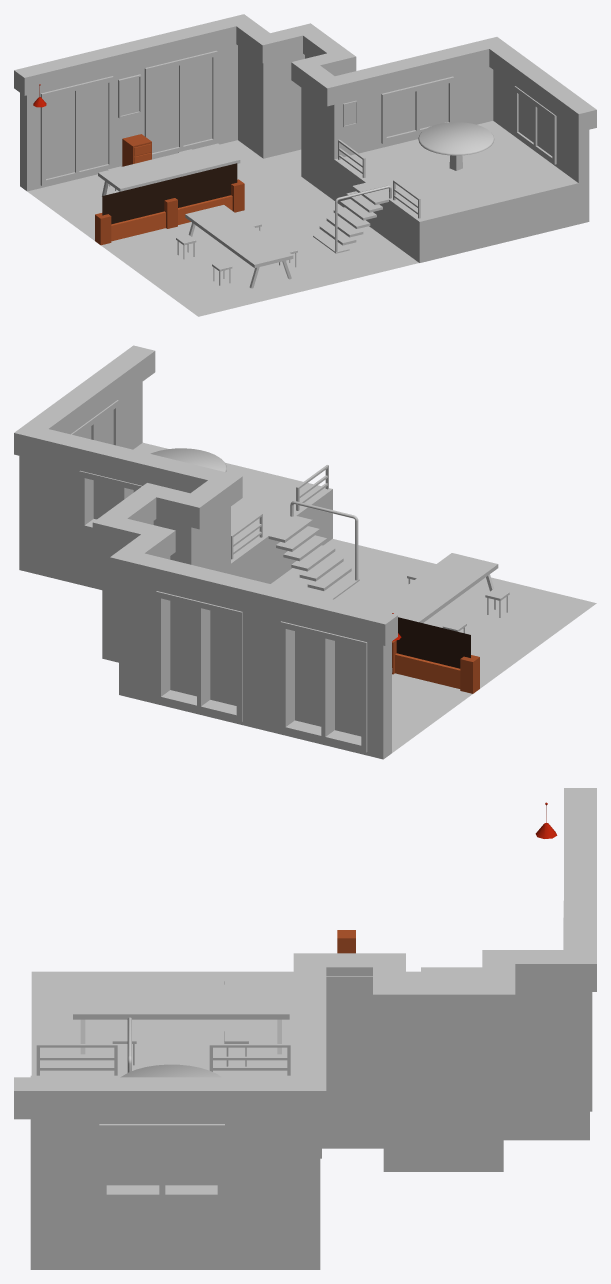
File: StudyRoom.fbx
3 views of the same model, one above another, from view 1: azimuth 30°, elevation 25°; view 2: azimuth 150°, elevation 25°; view 3: azimuth 270°, elevation 25° (orthographic). The views are drawn at different scales.
Parts seen in each view (by area): view 1: study_wall_L, s_floor, study room _wall_L, s_wall_L, Plane.055, Plane.003, window frame, study_table2_L, study_table2_L.001, window frame2, Cube.031, Plane.002 (+6 smaller); view 2: study_wall_L, study room _wall_L, s_floor, window frame, Plane.055, Plane.003, s_wall_L, study_table2_L, Cube.031, window frame2, Cube.033, study_table_L (+3 smaller); view 3: study_wall_L, study room _wall_L, s_floor, study_table2_L, Plane.001, window frame2, Cube.033, study_table_L, study_table2_L.001, library_chair2_L.001.
Boxes of the visible parts, left/top/right/bottom form: study_wall_L: left=20, top=44, right=589, bottom=262; s_floor: left=27, top=140, right=418, bottom=316; study room _wall_L: left=14, top=14, right=596, bottom=131; s_wall_L: left=95, top=163, right=244, bottom=245; Plane.055: left=46, top=83, right=108, bottom=178; Plane.003: left=150, top=57, right=212, bottom=153; window frame: left=40, top=50, right=217, bottom=185; study_table2_L: left=185, top=205, right=293, bottom=288; study_table2_L.001: left=98, top=143, right=240, bottom=196; window frame2: left=381, top=76, right=556, bottom=164; Cube.031: left=313, top=182, right=388, bottom=253; Plane.002: left=386, top=83, right=448, bottom=136; study_wall_L: left=19, top=382, right=391, bottom=759; study room _wall_L: left=14, top=345, right=397, bottom=645; s_floor: left=271, top=538, right=596, bottom=752; window frame: left=156, top=591, right=367, bottom=752; Plane.055: left=295, top=631, right=361, bottom=736; Plane.003: left=170, top=600, right=236, bottom=705; s_wall_L: left=392, top=617, right=479, bottom=693; study_table2_L: left=374, top=553, right=498, bottom=622; Cube.031: left=268, top=516, right=359, bottom=599; window frame2: left=71, top=400, right=142, bottom=532; Cube.033: left=231, top=465, right=328, bottom=559; study_table_L: left=150, top=448, right=226, bottom=472; study_wall_L: left=30, top=976, right=589, bottom=1269; study room _wall_L: left=14, top=788, right=596, bottom=1119; s_floor: left=31, top=971, right=420, bottom=1075; study_table2_L: left=73, top=984, right=289, bottom=1054; Plane.001: left=106, top=1132, right=217, bottom=1185; window frame2: left=99, top=1119, right=321, bottom=1201; Cube.033: left=36, top=1044, right=290, bottom=1075; study_table_L: left=121, top=1064, right=221, bottom=1077; study_table2_L.001: left=421, top=967, right=482, bottom=980; library_chair2_L.001: left=112, top=1031, right=248, bottom=1066.
Bounding box in the file's own units: 1611 × 1310 × 452.
